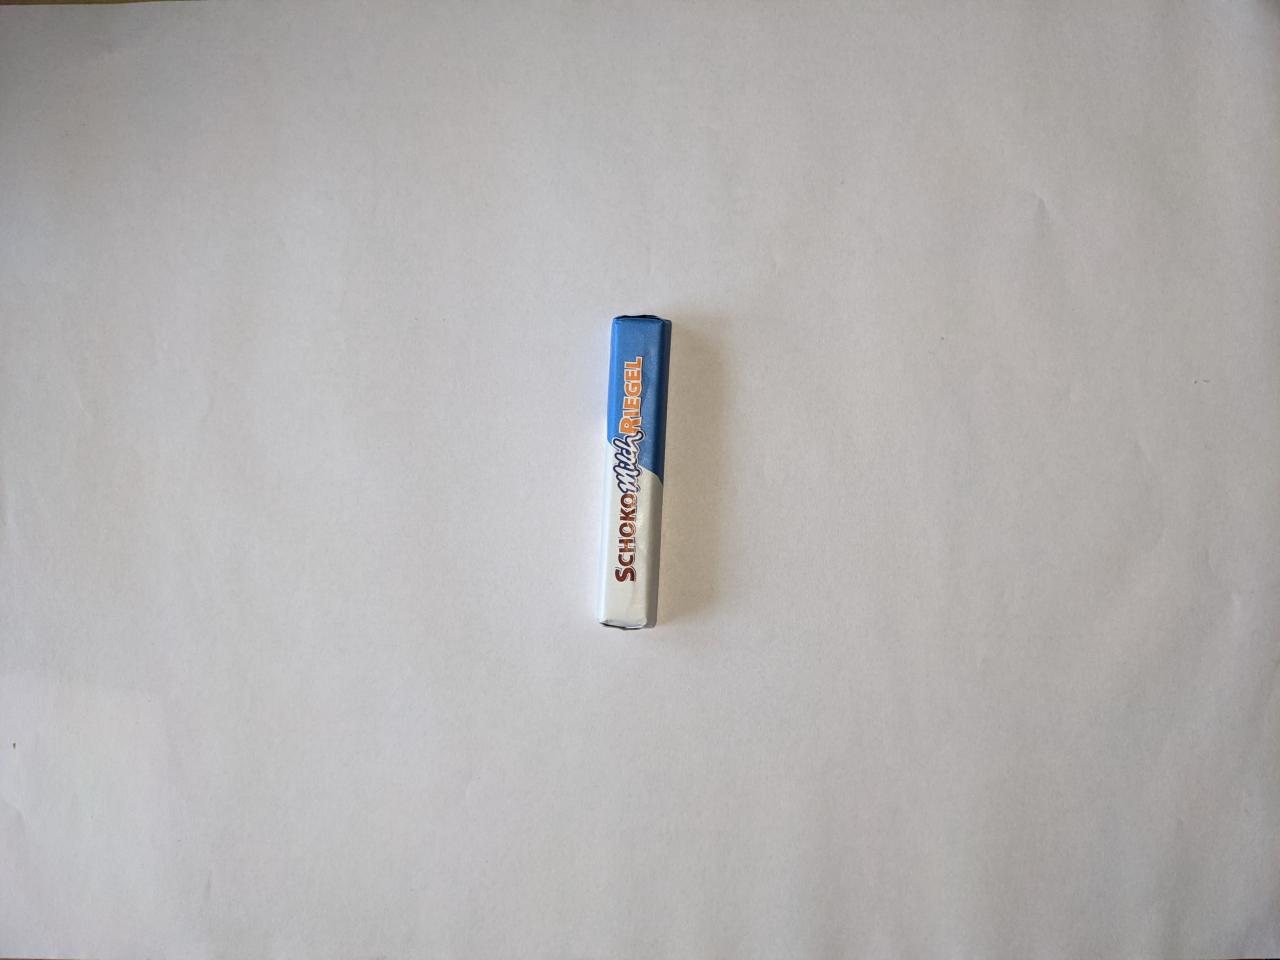Schokoriegel: (589, 308, 682, 642)
